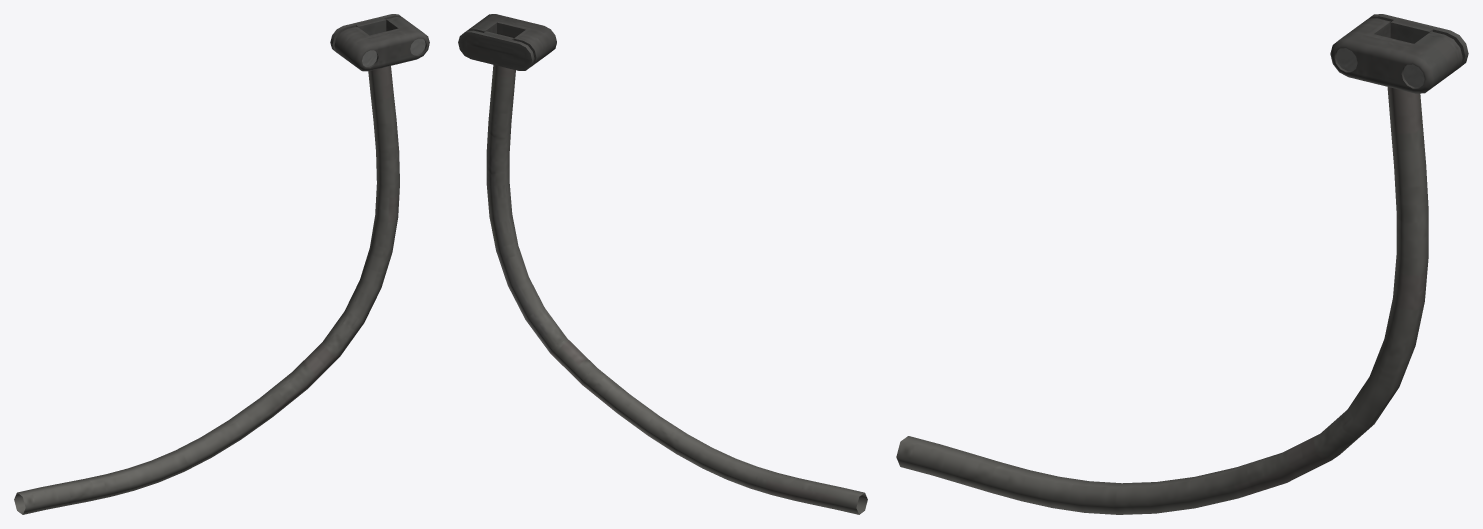
File: cable_turn_long.gltf
3 renders of one model, left to right at view 1: azimuth 30°, elevation 25°; view 2: azimuth 150°, elevation 25°; view 3: azimuth 330°, elevation 25°, orthographic. The views are drawn at different scales.
Parts seen in each view (by area): view 1: cable_turn_long; view 2: cable_turn_long; view 3: cable_turn_long.
Part boxes in pixels (bbox=[...]): cable_turn_long: bbox=[14, 14, 429, 514]; cable_turn_long: bbox=[458, 14, 867, 514]; cable_turn_long: bbox=[896, 14, 1468, 514].
Bounding box in the file's own units: 0.2208 × 0.2134 × 0.0259.
1 material, 1 textured.
